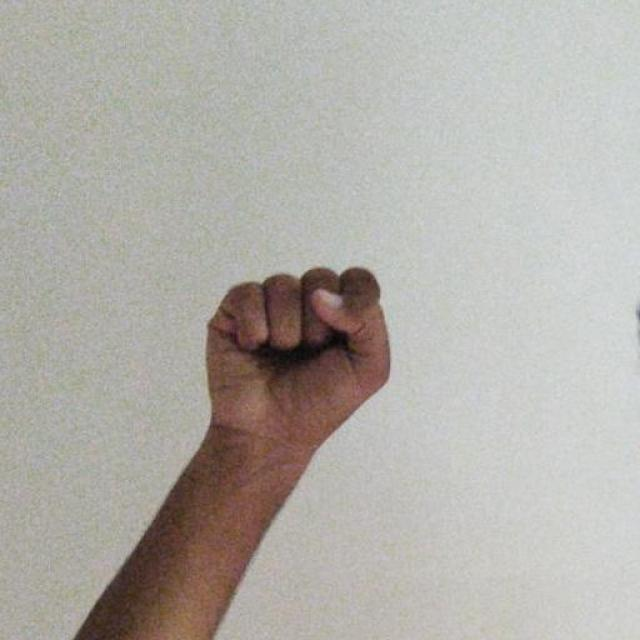hand: (202, 264, 392, 451)
